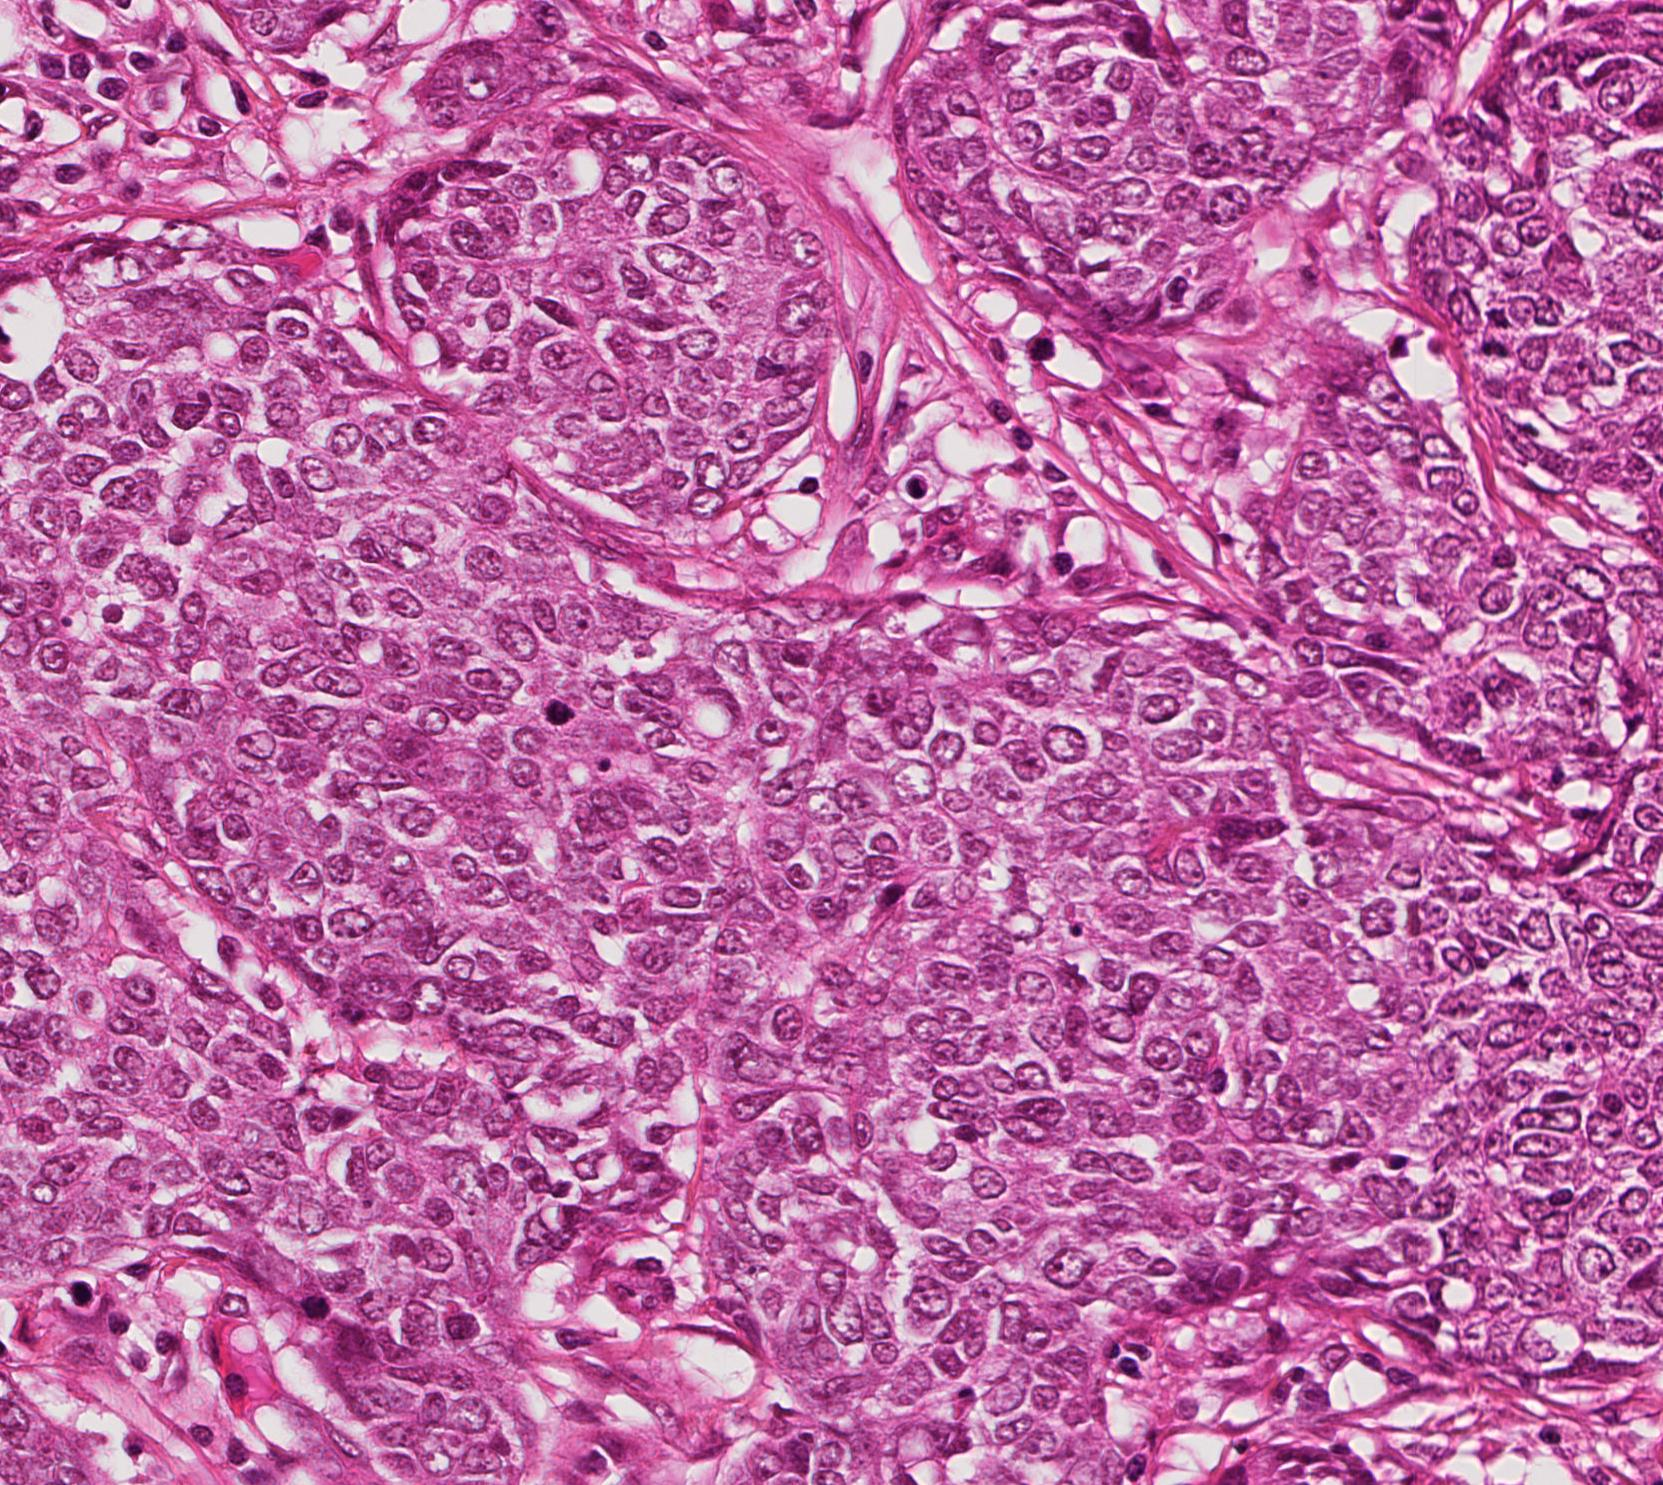mitosis: (536, 682, 596, 742)
